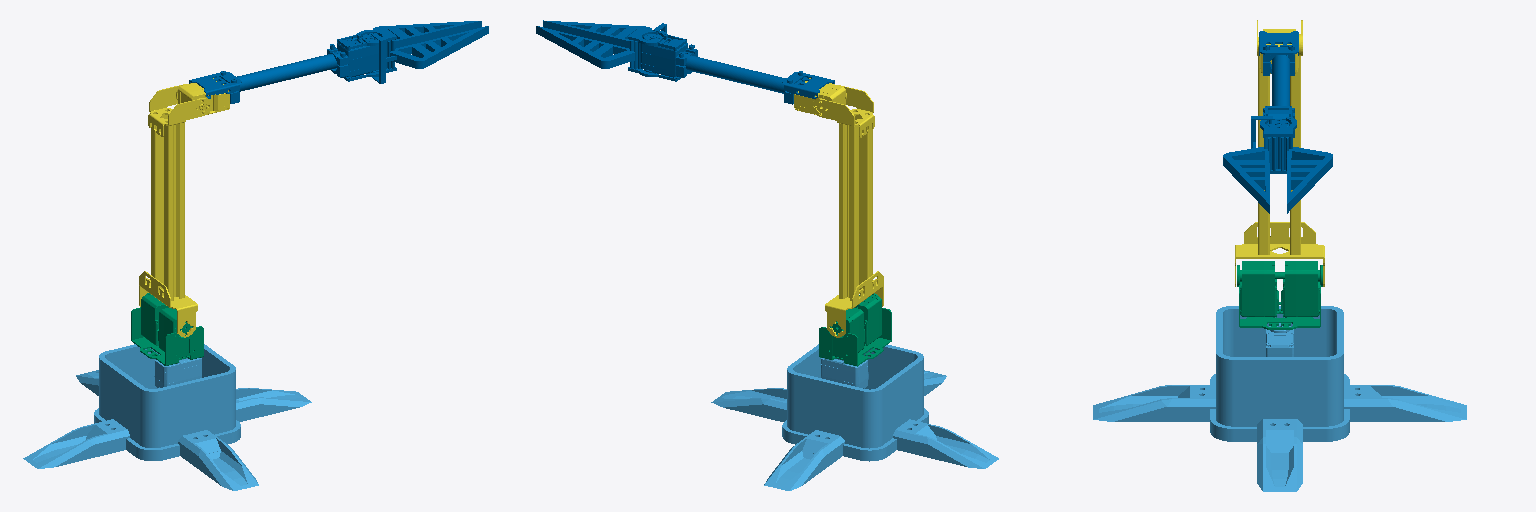
The robot description file, URDF, robot "robot_arm":
<?xml version="1.0"?>
<robot name="robot_arm">

  <link name="world"/>

  <joint name="world_to_base" type="fixed">
    <parent link="world"/>
    <child link="robot_base"/>
    <origin xyz="0 0 0.08" rpy="0 0 0"/>
  </joint>

  <link name="robot_base">
    <inertial>
      <origin xyz="0 0 -0.04" rpy="0 0 0"/>
      <mass value="1"/>
      <inertia ixx="0.00938967" ixy="0" ixz="0" iyy="0.00938967" iyz="0" izz="0.0177127"/>
    </inertial>

    <visual>
      <origin xyz="-0 -0 -0" rpy="0 0 0"/>
      <geometry>
        <mesh filename="package://robot_arm_description/meshes/base.stl" scale="0.001 0.001 0.001"/>
      </geometry>
    </visual>

    <visual>
      <origin xyz="-0 -0 -0" rpy="0 0 0"/>
      <geometry>
        <mesh filename="package://robot_arm_description/meshes/base_leg_1.stl" scale="0.001 0.001 0.001"/>
      </geometry>
    </visual>

    <visual>
      <origin xyz="-0 -0 -0" rpy="0 0 0"/>
      <geometry>
        <mesh filename="package://robot_arm_description/meshes/base_leg_2.stl" scale="0.001 0.001 0.001"/>
      </geometry>
    </visual>

    <visual>
      <origin xyz="-0 -0 -0" rpy="0 0 0"/>
      <geometry>
        <mesh filename="package://robot_arm_description/meshes/base_leg_3.stl" scale="0.001 0.001 0.001"/>
      </geometry>
    </visual>

    <visual>
      <origin xyz="-0 -0 -0" rpy="0 0 0"/>
      <geometry>
        <mesh filename="package://robot_arm_description/meshes/base_leg_4.stl" scale="0.001 0.001 0.001"/>
      </geometry>
    </visual>

    <visual>
      <origin xyz="-0 -0 -0" rpy="0 0 0"/>
      <geometry>
        <mesh filename="package://robot_arm_description/meshes/motor_base.stl" scale="0.001 0.001 0.001"/>
      </geometry>
    </visual>

    <collision>
      <origin xyz="0 0 -0.0415" rpy="0 0 0"/>
      <geometry><box size="0.146 0.146 0.077"/></geometry>
    </collision>

    <collision>
      <origin xyz="0.1132 0 -0.07" rpy="0 0 0"/>
      <geometry><box size="0.1006 0.04 0.02"/></geometry>
    </collision>

    <collision>
      <origin xyz="-0.1132 0 -0.07" rpy="0 0 0"/>
      <geometry><box size="0.1006 0.04 0.02"/></geometry>
    </collision>

    <collision>
      <origin xyz="0 0.1132 -0.07" rpy="0 0 0"/>
      <geometry><box size="0.04 0.1006 0.02"/></geometry>
    </collision>

    <collision>
      <origin xyz="0 -0.1132 -0.07" rpy="0 0 0"/>
      <geometry><box size="0.04 0.1006 0.02"/></geometry>
    </collision>
  </link>

  <joint name="joint_base_rotate" type="revolute">
    <parent link="robot_base"/>
    <child link="link_turntable"/>
    <origin xyz="0 0 0.0125" rpy="0 0 0"/>
    <axis xyz="0 0 1"/>
    <limit lower="-3.14" upper="3.14" effort="10.0" velocity="2.0"/>
    <dynamics damping="0.5" friction="0.1"/>
  </joint>

  <link name="link_turntable">
    <inertial>
      <origin xyz="0 0 0.02475" rpy="0 0 0"/>
      <mass value="0.4"/>
      <inertia ixx="0.000274208" ixy="0" ixz="0" iyy="0.000182508" iyz="0" izz="0.000293367"/>
    </inertial>

    <visual>
      <origin xyz="-0 -0 -0.0125" rpy="0 0 0"/>
      <geometry>
        <mesh filename="package://robot_arm_description/meshes/arm_base.stl" scale="0.001 0.001 0.001"/>
      </geometry>
    </visual>

    <visual>
      <origin xyz="-0 -0 -0.0125" rpy="0 0 0"/>
      <geometry>
        <mesh filename="package://robot_arm_description/meshes/motor_shoulder_1.stl" scale="0.001 0.001 0.001"/>
      </geometry>
    </visual>

    <visual>
      <origin xyz="-0 -0 -0.0125" rpy="0 0 0"/>
      <geometry>
        <mesh filename="package://robot_arm_description/meshes/motor_shoulder_2.stl" scale="0.001 0.001 0.001"/>
      </geometry>
    </visual>

    <collision>
      <origin xyz="0 0 0.02475" rpy="0 0 0"/>
      <geometry><box size="0.055 0.076 0.0495"/></geometry>
    </collision>
  </link>

  <joint name="joint_shoulder" type="revolute">
    <parent link="link_turntable"/>
    <child link="link_upper_arm"/>
    <origin xyz="0 0 0.0395" rpy="0 0 0"/>
    <axis xyz="0 1 0"/>
    <limit lower="-1.57" upper="1.57" effort="10.0" velocity="2.0"/>
    <dynamics damping="0.5" friction="0.1"/>
  </joint>

  <link name="link_upper_arm">
    <inertial>
      <origin xyz="0 0 0.124" rpy="0 0 0"/>
      <mass value="0.5"/>
      <inertia ixx="0.00172683" ixy="0" ixz="0" iyy="0.00168333" iyz="0" izz="7.68333e-05"/>
    </inertial>

    <visual>
      <origin xyz="-0 -0 -0.052" rpy="0 0 0"/>
      <geometry>
        <mesh filename="package://robot_arm_description/meshes/shoulder.stl" scale="0.001 0.001 0.001"/>
      </geometry>
    </visual>

    <visual>
      <origin xyz="-0 -0 -0.052" rpy="0 0 0"/>
      <geometry>
        <mesh filename="package://robot_arm_description/meshes/upper_arm.stl" scale="0.001 0.001 0.001"/>
      </geometry>
    </visual>

    <visual>
      <origin xyz="-0 -0 -0.052" rpy="0 0 0"/>
      <geometry>
        <mesh filename="package://robot_arm_description/meshes/elbow_a.stl" scale="0.001 0.001 0.001"/>
      </geometry>
    </visual>

    <visual>
      <origin xyz="-0 -0 -0.052" rpy="0 0 0"/>
      <geometry>
        <mesh filename="package://robot_arm_description/meshes/motor_elbow.stl" scale="0.001 0.001 0.001"/>
      </geometry>
    </visual>

    <collision>
      <origin xyz="0 0 0.124" rpy="0 0 0"/>
      <geometry><box size="0.02 0.038 0.2"/></geometry>
    </collision>

    <collision>
      <origin xyz="0.0425 0 0.2365" rpy="0 0 0"/>
      <geometry><box size="0.045 0.038 0.025"/></geometry>
    </collision>
  </link>

  <joint name="joint_elbow" type="revolute">
    <parent link="link_upper_arm"/>
    <child link="link_forearm"/>
    <origin xyz="0.03 0 0.2368" rpy="0 0 0"/>
    <axis xyz="0 1 0"/>
    <limit lower="-1.57" upper="1.57" effort="10.0" velocity="2.0"/>
    <dynamics damping="0.5" friction="0.1"/>
  </joint>

  <link name="link_forearm">
    <inertial>
      <origin xyz="0.2625 -0.0015 0.0042" rpy="0 0 0"/>
      <mass value="0.5"/>
      <inertia ixx="0.000496208" ixy="0" ixz="0" iyy="0.00132254" iyz="0" izz="0.00161042"/>
    </inertial>

    <visual>
      <origin xyz="-0.03 -0 -0.2888" rpy="0 0 0"/>
      <geometry>
        <mesh filename="package://robot_arm_description/meshes/elbow_b.stl" scale="0.001 0.001 0.001"/>
      </geometry>
    </visual>

    <visual>
      <origin xyz="-0.03 -0 -0.2888" rpy="0 0 0"/>
      <geometry>
        <mesh filename="package://robot_arm_description/meshes/forearm.stl" scale="0.001 0.001 0.001"/>
      </geometry>
    </visual>

    <visual>
      <origin xyz="-0.03 -0 -0.2888" rpy="0 0 0"/>
      <geometry>
        <mesh filename="package://robot_arm_description/meshes/motor_wrist.stl" scale="0.001 0.001 0.001"/>
      </geometry>
    </visual>

    <visual>
      <origin xyz="-0.03 -0 -0.2888" rpy="0 0 0"/>
      <geometry>
        <mesh filename="package://robot_arm_description/meshes/leg_holder_elbow.stl" scale="0.001 0.001 0.001"/>
      </geometry>
    </visual>

    <visual>
      <origin xyz="-0.03 -0 -0.2888" rpy="0 0 0"/>
      <geometry>
        <mesh filename="package://robot_arm_description/meshes/leg_holder_wrist.stl" scale="0.001 0.001 0.001"/>
      </geometry>
    </visual>

    <visual>
      <origin xyz="-0.03 -0 -0.2888" rpy="0 0 0"/>
      <geometry>
        <mesh filename="package://robot_arm_description/meshes/screws_forearm.stl" scale="0.001 0.001 0.001"/>
      </geometry>
    </visual>

    <collision>
      <origin xyz="0.101 0 0.0052" rpy="0 0 0"/>
      <geometry><box size="0.14 0.016 0.016"/></geometry>
    </collision>

    <collision>
      <origin xyz="0.2625 -0.0015 0.0042" rpy="0 0 0"/>
      <geometry><box size="0.171 0.097 0.05"/></geometry>
    </collision>
  </link>

  <joint name="tip_joint" type="fixed">
    <parent link="link_forearm"/>
    <child link="end_effector"/>
    <origin xyz="0.348 0 0.0042" rpy="0 0 0"/>
  </joint>

  <link name="end_effector">
    <inertial>
      <mass value="0.001"/>
      <inertia ixx="1e-6" ixy="0" ixz="0" iyy="1e-6" iyz="0" izz="1e-6"/>
    </inertial>
  </link>

  <ros2_control name="GazeboSystem" type="system">
    <hardware>
      <plugin>gazebo_ros2_control/GazeboSystem</plugin>
    </hardware>
    <joint name="joint_base_rotate">
      <command_interface name="position"/>
      <state_interface name="position"><param name="initial_value">0.0</param></state_interface>
      <state_interface name="velocity"/>
    </joint>
    <joint name="joint_shoulder">
      <command_interface name="position"/>
      <state_interface name="position"><param name="initial_value">0.0</param></state_interface>
      <state_interface name="velocity"/>
    </joint>
    <joint name="joint_elbow">
      <command_interface name="position"/>
      <state_interface name="position"><param name="initial_value">0.0</param></state_interface>
      <state_interface name="velocity"/>
    </joint>
  </ros2_control>

  <gazebo>
    <plugin filename="libgazebo_ros2_control.so" name="gazebo_ros2_control">
      <parameters>/home/pavan/robot_arm_ws/src/robot_arm_description/config/controllers.yaml</parameters>
    </plugin>
  </gazebo>

</robot>

--- What the picture shows (computed from the rendered views, not written in the file) ---
3 views of the same robot in one strip: view 1: azimuth 30°, elevation 25°; view 2: azimuth 150°, elevation 25°; view 3: azimuth 270°, elevation 25° (orthographic).
Model robot_arm with 6 links and 5 joints (3 revolute, 2 fixed), rooted at world, posed all joints at 0.
Visible links, largest first — view 1: robot_base, link_upper_arm, link_forearm, link_turntable; view 2: robot_base, link_upper_arm, link_forearm, link_turntable; view 3: robot_base, link_forearm, link_turntable, link_upper_arm.
Link boxes in pixels (left/top/right/bottom): robot_base: left=23, top=344, right=311, bottom=490; link_upper_arm: left=139, top=78, right=229, bottom=337; link_forearm: left=189, top=21, right=488, bottom=103; link_turntable: left=131, top=293, right=203, bottom=365; robot_base: left=711, top=344, right=998, bottom=490; link_upper_arm: left=794, top=78, right=883, bottom=337; link_forearm: left=536, top=20, right=834, bottom=104; link_turntable: left=819, top=293, right=891, bottom=366; robot_base: left=1093, top=306, right=1466, bottom=491; link_forearm: left=1223, top=31, right=1332, bottom=213; link_turntable: left=1237, top=261, right=1322, bottom=329; link_upper_arm: left=1235, top=20, right=1324, bottom=286.
Size in the robot's own frame: 0.5413 by 0.327 by 0.3976 metres.
Meshes: 19 distinct files referenced, 19 mesh visuals loaded (19 binary STL).
